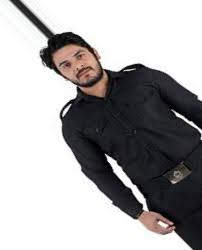uniform: (50, 91, 202, 241)
